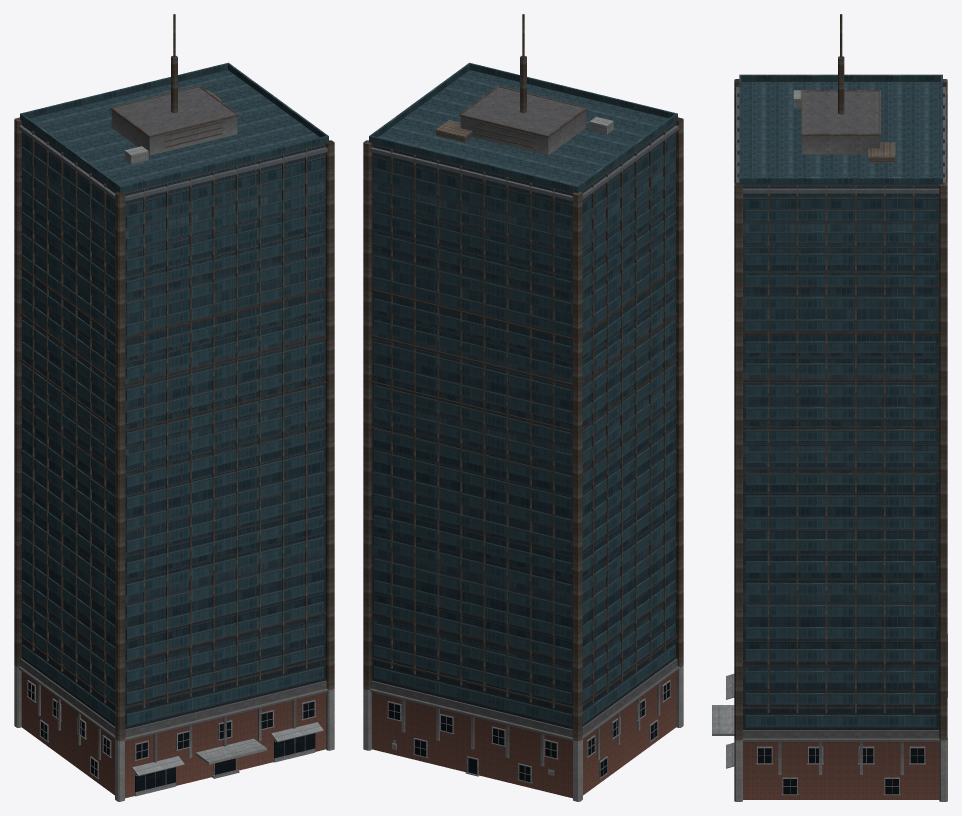
The model's file is woodward-corner-tower_lod0.gltf.
The picture shows the model from 3 angles, left to right: view 1: azimuth 30°, elevation 25°; view 2: azimuth 150°, elevation 25°; view 3: azimuth 270°, elevation 25°; orthographic projection.
Visible parts, largest first — view 1: woodward-corner-tower_fen_07-glass-curtain-blue_0, woodward-corner-tower_upper, woodward-corner-tower__v4_metal_detail, woodward-corner-tower__v4_stone_detail, woodward-corner-tower_base, woodward-corner-tower_fen_07-glass-curtain-blue_2_t, woodward-corner-tower_fen_14-steel-panel_1, woodward-corner-tower__cornice, woodward-corner-tower__parapet_front, woodward-corner-tower__parapet_back, woodward-corner-tower__canopy, woodward-corner-tower__parapet_left (+1 smaller); view 2: woodward-corner-tower_fen_07-glass-curtain-blue_0, woodward-corner-tower_upper, woodward-corner-tower__v4_metal_detail, woodward-corner-tower_base, woodward-corner-tower__v4_stone_detail, woodward-corner-tower__cornice, woodward-corner-tower_fen_14-steel-panel_1, woodward-corner-tower_fen_07-glass-curtain-blue_2_t, woodward-corner-tower__parapet_back, woodward-corner-tower__parapet_front, woodward-corner-tower__parapet_left, woodward-corner-tower__parapet_right; view 3: woodward-corner-tower_upper, woodward-corner-tower_fen_07-glass-curtain-blue_0, woodward-corner-tower__v4_metal_detail, woodward-corner-tower_base, woodward-corner-tower__v4_stone_detail, woodward-corner-tower__cornice, woodward-corner-tower__parapet_right, woodward-corner-tower__parapet_left, woodward-corner-tower_fen_07-glass-curtain-blue_2_t, woodward-corner-tower_fen_14-steel-panel_1, woodward-corner-tower__canopy, woodward-corner-tower__terrace.
Part boxes in pixels (<box>): woodward-corner-tower_fen_07-glass-curtain-blue_0: <box>22,147,323,725</box>; woodward-corner-tower_upper: <box>22,70,325,729</box>; woodward-corner-tower__v4_metal_detail: <box>14,14,334,741</box>; woodward-corner-tower__v4_stone_detail: <box>14,87,334,801</box>; woodward-corner-tower_base: <box>21,671,325,798</box>; woodward-corner-tower_fen_07-glass-curtain-blue_2_t: <box>28,682,315,792</box>; woodward-corner-tower_fen_14-steel-panel_1: <box>26,680,316,796</box>; woodward-corner-tower__cornice: <box>19,125,327,201</box>; woodward-corner-tower__parapet_front: <box>119,135,328,192</box>; woodward-corner-tower__parapet_back: <box>20,62,229,119</box>; woodward-corner-tower__canopy: <box>195,738,266,764</box>; woodward-corner-tower__parapet_left: <box>21,114,120,191</box>; woodward-corner-tower_fen_07-glass-curtain-blue_0: <box>374,147,675,725</box>; woodward-corner-tower_upper: <box>372,70,675,729</box>; woodward-corner-tower__v4_metal_detail: <box>363,14,683,741</box>; woodward-corner-tower_base: <box>372,671,676,798</box>; woodward-corner-tower__v4_stone_detail: <box>363,87,683,801</box>; woodward-corner-tower__cornice: <box>370,125,678,201</box>; woodward-corner-tower_fen_14-steel-panel_1: <box>387,680,671,783</box>; woodward-corner-tower_fen_07-glass-curtain-blue_2_t: <box>388,682,669,782</box>; woodward-corner-tower__parapet_back: <box>369,135,578,192</box>; woodward-corner-tower__parapet_front: <box>468,62,677,119</box>; woodward-corner-tower__parapet_left: <box>577,114,676,191</box>; woodward-corner-tower__parapet_right: <box>370,63,469,137</box>; woodward-corner-tower_upper: <box>741,82,940,729</box>; woodward-corner-tower_fen_07-glass-curtain-blue_0: <box>746,209,936,726</box>; woodward-corner-tower__v4_metal_detail: <box>734,14,947,740</box>; woodward-corner-tower_base: <box>743,742,939,799</box>; woodward-corner-tower__v4_stone_detail: <box>734,91,947,801</box>; woodward-corner-tower__cornice: <box>736,87,946,193</box>; woodward-corner-tower__parapet_right: <box>741,177,940,184</box>; woodward-corner-tower__parapet_left: <box>741,74,940,81</box>; woodward-corner-tower_fen_07-glass-curtain-blue_2_t: <box>758,748,924,794</box>; woodward-corner-tower_fen_14-steel-panel_1: <box>756,746,925,795</box>; woodward-corner-tower__canopy: <box>712,705,734,735</box>; woodward-corner-tower__terrace: <box>868,142,895,162</box>.
Size of the model in its own units: 37.44 by 119 by 34.72.
